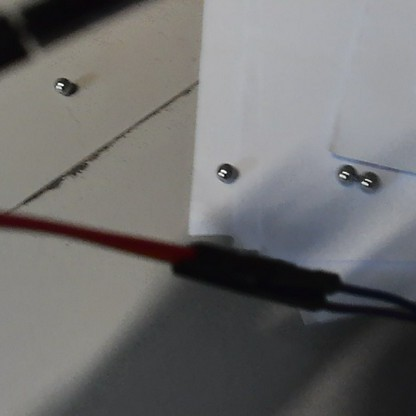ironball: (356, 167, 383, 197), (332, 160, 358, 188), (213, 159, 238, 185), (51, 72, 74, 96)
